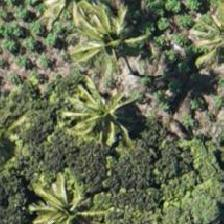coconut_tree: (61, 69, 151, 159), (62, 0, 152, 78), (18, 157, 108, 223)
